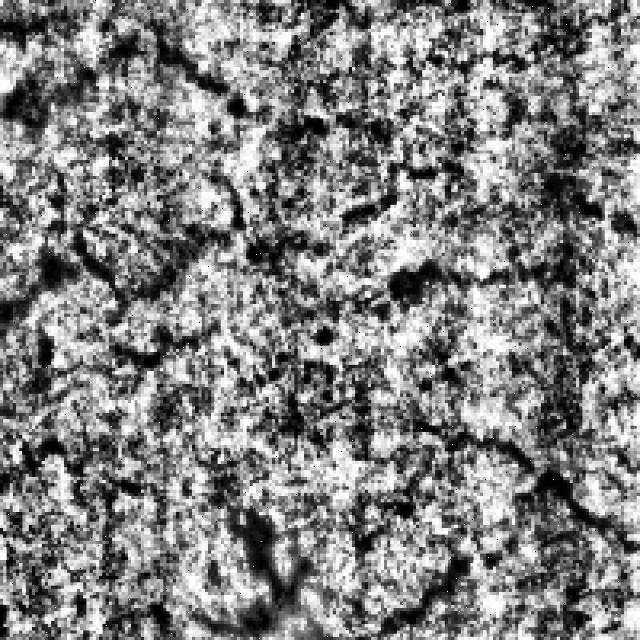Pitted_Surface: (26, 16, 634, 320), (202, 412, 640, 633)
